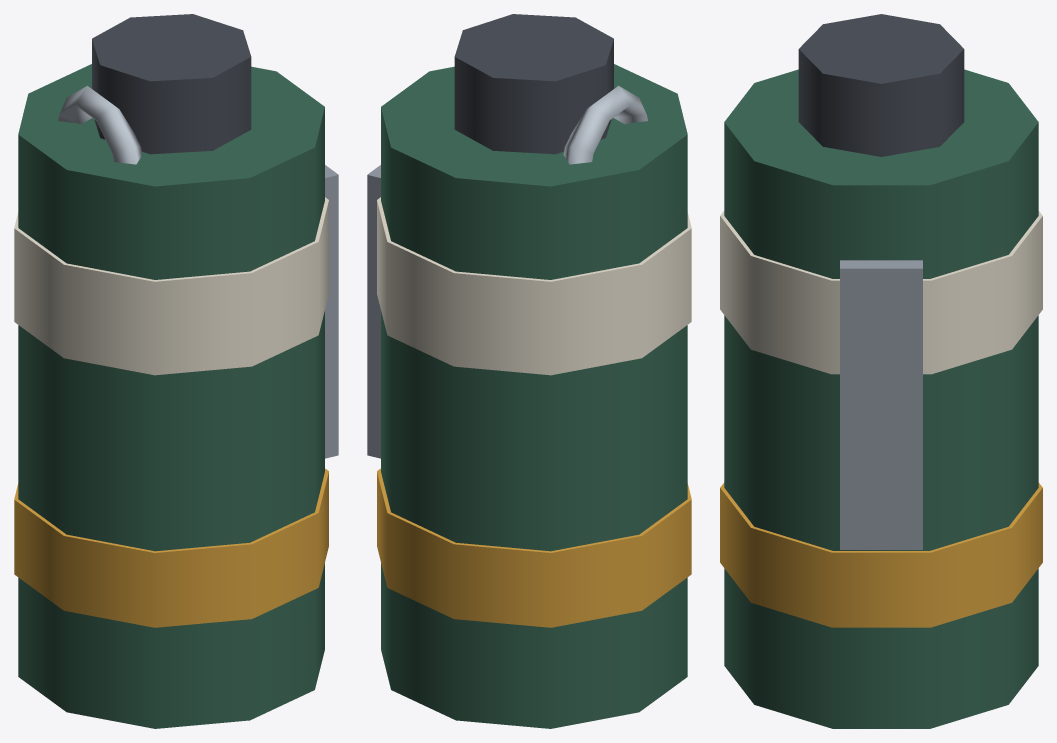
Rendered from smokegrenade.glb.
3 views of the same model, side by side, from view 1: azimuth 30°, elevation 25°; view 2: azimuth 150°, elevation 25°; view 3: azimuth 270°, elevation 25° (orthographic).
Parts seen in each view (by area): view 1: Smoke; view 2: Smoke; view 3: Smoke.
Boxes of the visible parts, <box> form: Smoke: <box>14,14,338,728</box>; Smoke: <box>367,14,691,728</box>; Smoke: <box>720,14,1042,728</box>.
Size of the model in its own units: 0.0781 by 0.1645 by 0.078.
